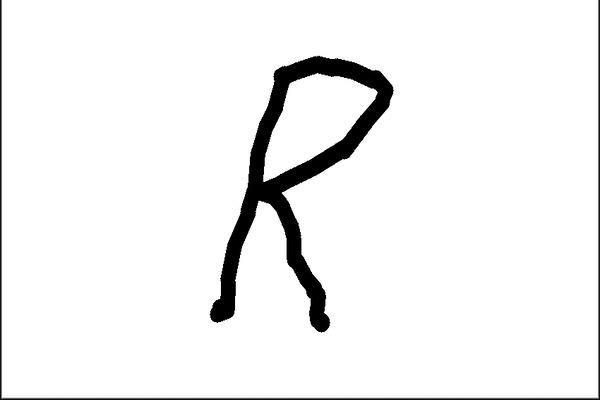R: (208, 38, 389, 336)
